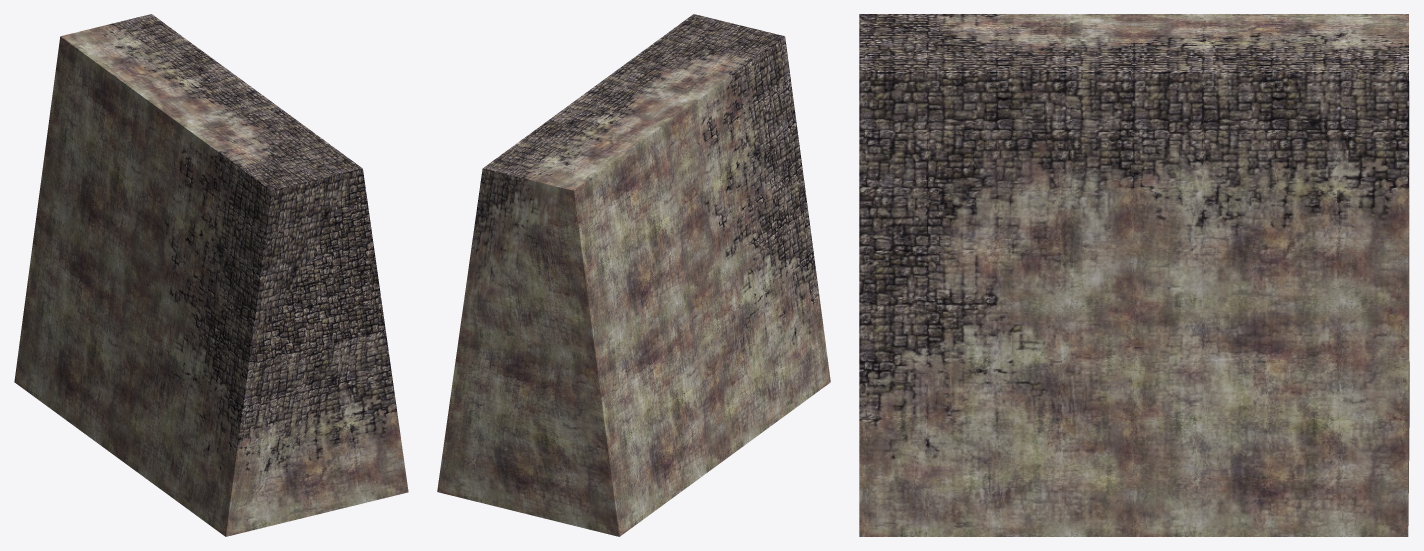
The model's file is pir_m_bld_frt_innerWallStucco_100.fbx.
3 renders of one model, left to right at view 1: azimuth 30°, elevation 25°; view 2: azimuth 150°, elevation 25°; view 3: azimuth 270°, elevation 25°, orthographic. The views are drawn at different scales.
Visible parts, largest first — view 1: lod_high; view 2: lod_high; view 3: lod_high.
Boxes of the visible parts, x1,y1,x2,y2 form: lod_high: (14,14,408,536); lod_high: (437,14,830,536); lod_high: (859,14,1409,536).
Bounding box in the file's own units: 5000 × 8750 × 10009.
2 materials, 2 textured.
